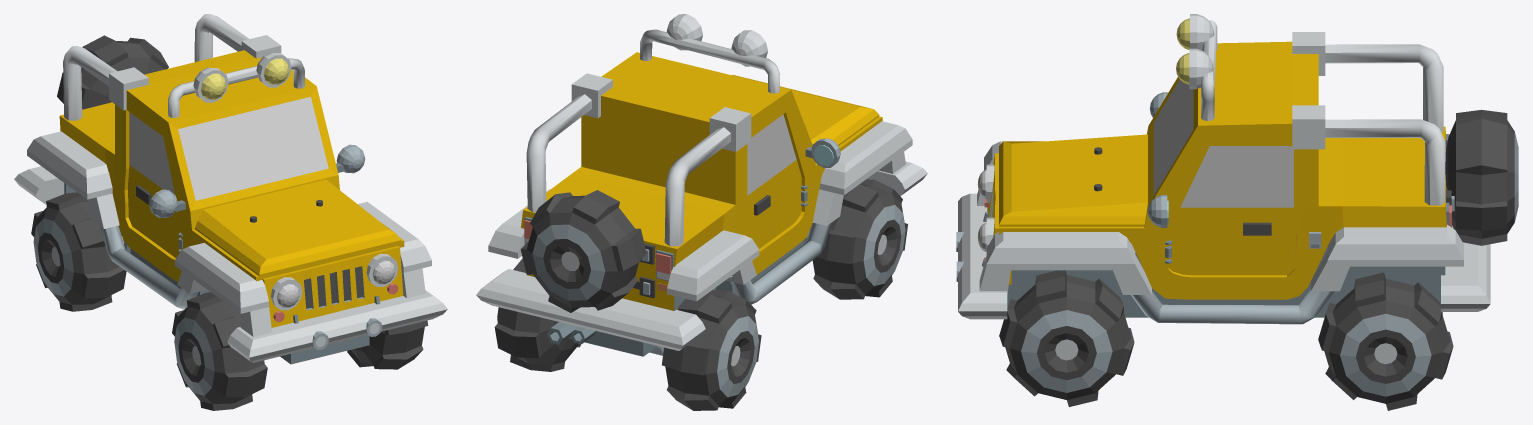
Rendered from car.gltf.
3 renders of one model, left to right at view 1: azimuth 30°, elevation 25°; view 2: azimuth 150°, elevation 25°; view 3: azimuth 270°, elevation 25°, orthographic. The views are drawn at different scales.
Parts seen in each view (by area): view 1: group_1085046267; view 2: group_1085046267; view 3: group_1085046267.
Boxes of the visible parts, <box> form: group_1085046267: <box>14,14,447,410</box>; group_1085046267: <box>476,14,927,410</box>; group_1085046267: <box>956,14,1518,410</box>.
Size of the model in its own units: 0.6868 by 0.8703 by 1.36.
